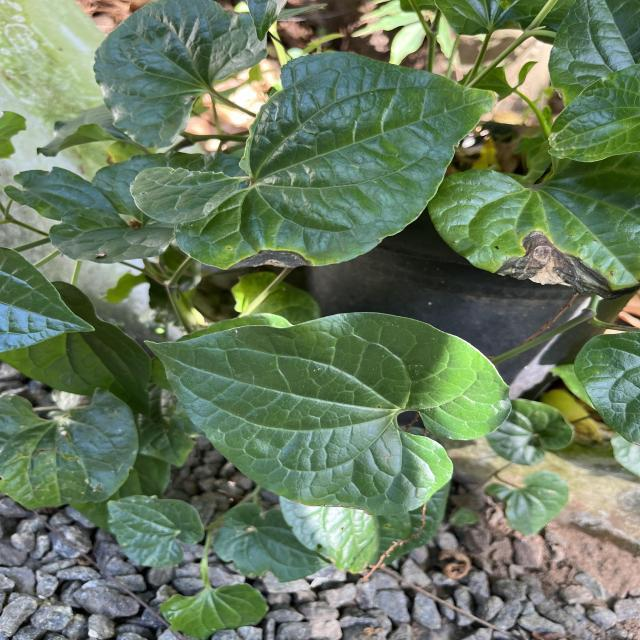Piper longum: (141, 310, 514, 517)
